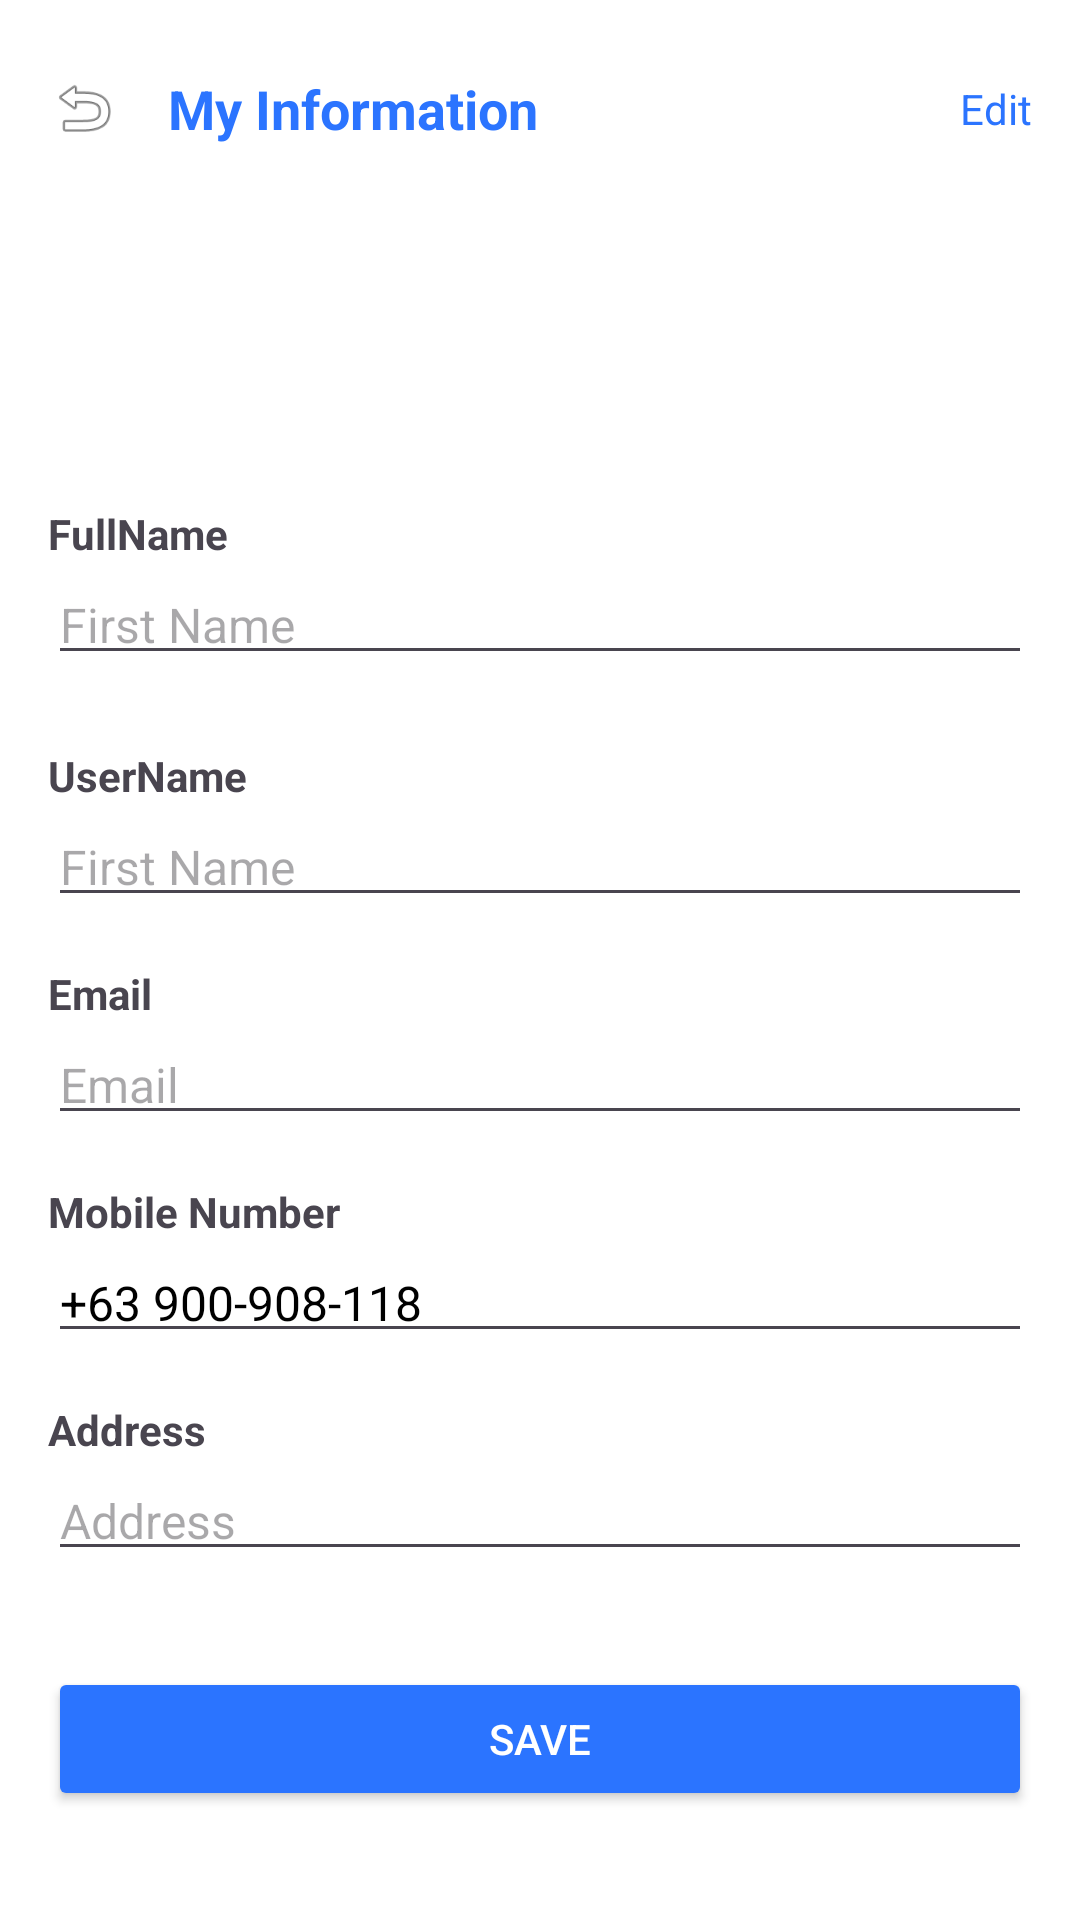

Screen size 1080×1920. Icon name, then its box in pixels as (x1,y1,x2,y2):
revert: (59,85,111,132)
